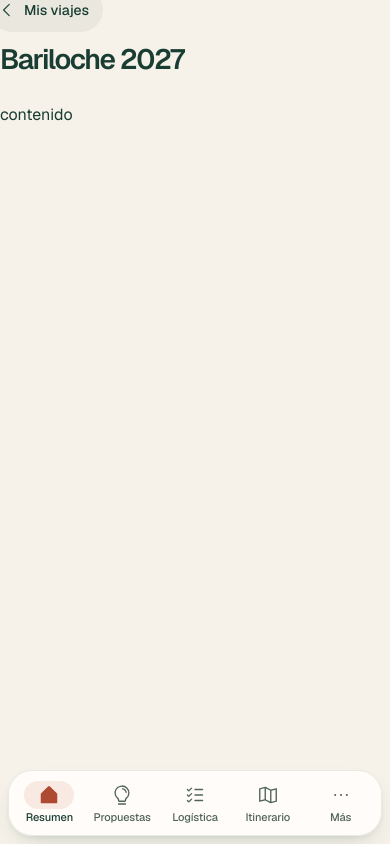
Test: TripShellContainer › bottom navigation › lists the other sections in the more sheet, not the ones already in the bar
Click the button "Más" at {"x": 341, "y": 803}, box [304,775,377,831]
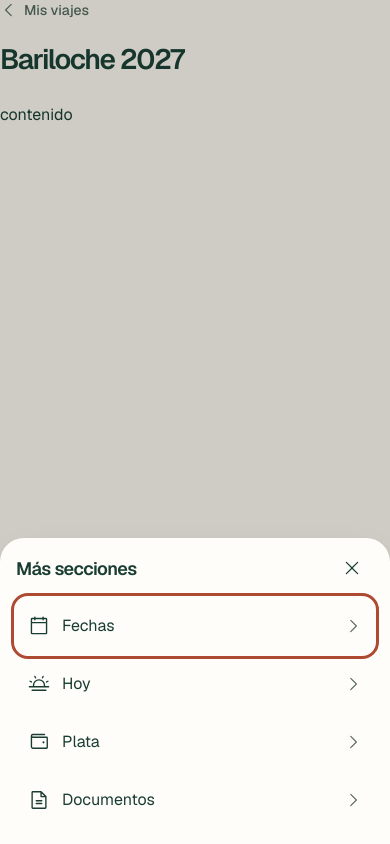
Check: the links read "Fechas", "Hoy", "Plata", "Documentos", in this order, box [28,615,362,637]; [28,673,362,695]; [28,731,362,753]; [28,789,362,811]
